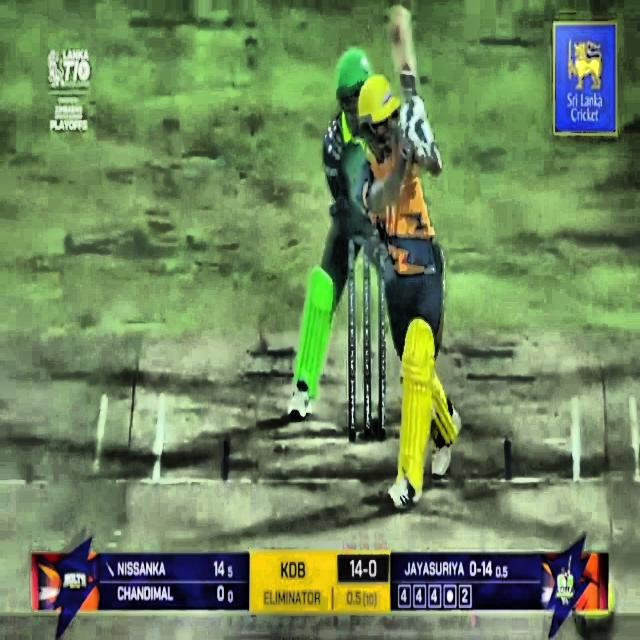Left-stump: (348, 243, 355, 440)
Middle-stump: (364, 252, 371, 439)
Right-stump: (380, 274, 385, 440)
